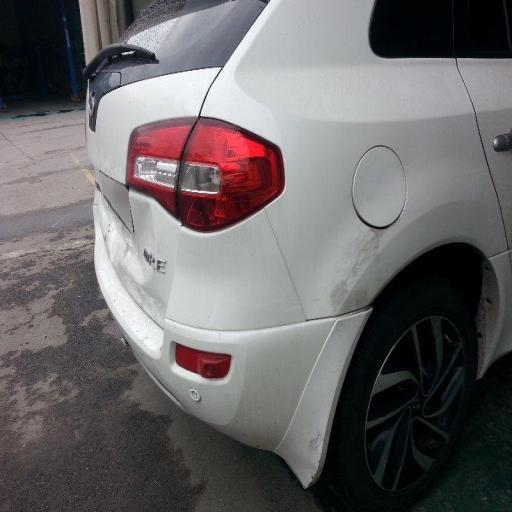dent: (89, 135, 206, 365)
scratch: (307, 197, 393, 344)
